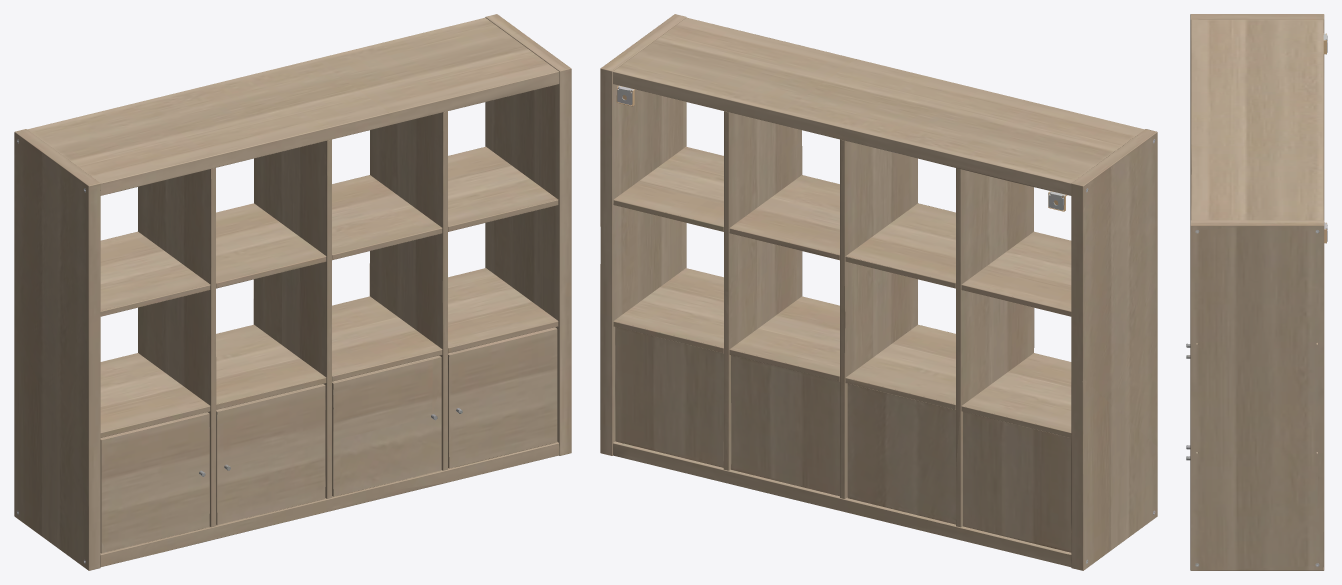
File: 40 - KALLAX - 層架組附4收納隔板, 染白橡木紋, 147x112 公分 IKEA 線上購物.glb
3 views of the same model, side by side, from view 1: azimuth 30°, elevation 25°; view 2: azimuth 150°, elevation 25°; view 3: azimuth 270°, elevation 25° (orthographic). The views are drawn at different scales.
Parts seen in each view (by area): view 1: 40409935-shelving unit 112x147 wh st oak eff001; view 2: 40409935-shelving unit 112x147 wh st oak eff001; view 3: 40409935-shelving unit 112x147 wh st oak eff001.
Part boxes in pixels (left/top/right/bottom): 40409935-shelving unit 112x147 wh st oak eff001: left=14, top=14, right=571, bottom=570; 40409935-shelving unit 112x147 wh st oak eff001: left=600, top=14, right=1157, bottom=570; 40409935-shelving unit 112x147 wh st oak eff001: left=1186, top=14, right=1327, bottom=570.
Bounding box in the file's own units: 1.47 × 1.12 × 0.4131.
Materials: 1 (1 with a texture image).
